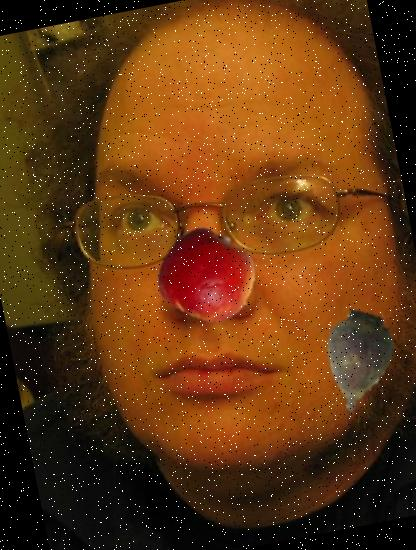Apple: (152, 220, 264, 332)
Beetroot: (292, 299, 416, 426)
